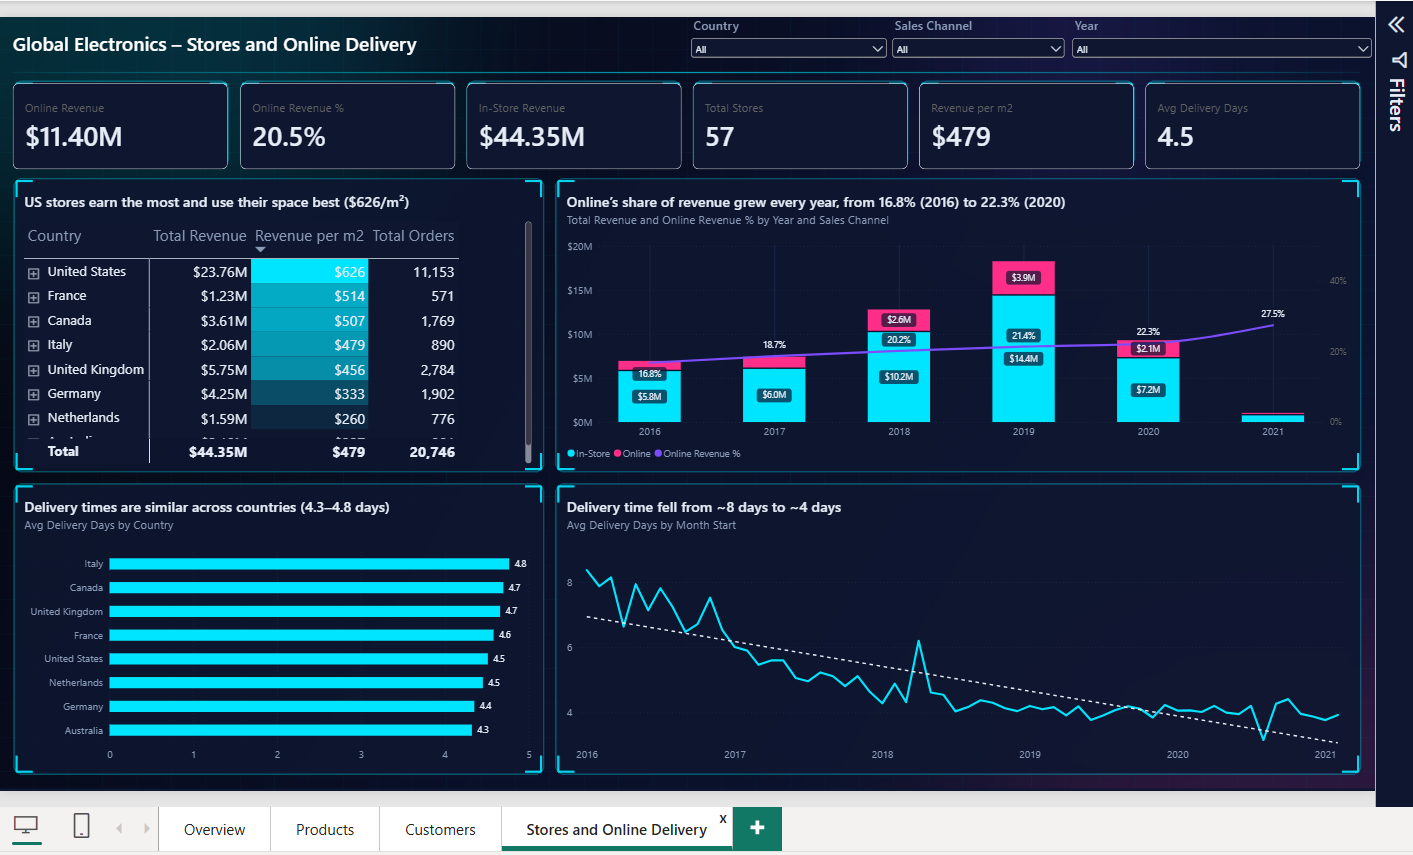

What the dashboard file says about the page in this screenshot:
{"tool":"powerbi","page":{"name":"Stores and Online Delivery","canvas":[1920,1080],"ordinal":3},"visuals":[{"type":"textbox","box":[20,20,960.2,64.6],"z":0},{"type":"slicer","fields":{"Values":["Date.Year"]},"box":[1492.8,0,427.7,64.6],"z":1000},{"type":"slicer","fields":{"Values":["Stores.Country"]},"box":[960.2,0,282.4,64.6],"z":2000},{"type":"slicer","fields":{"Values":["Sales.Sales Channel"]},"box":[1242.6,0,250.1,64.6],"z":3000},{"type":"cardVisual","fields":{"Data":["_Measures_.Online Revenue"]},"box":[20,92,300,120],"z":4000},{"type":"cardVisual","fields":{"Data":["_Measures_.In-Store Revenue"]},"box":[652,92,300,120],"z":5000},{"type":"cardVisual","fields":{"Data":["_Measures_.Online Revenue %"]},"box":[336,92,300,120],"z":6000},{"type":"cardVisual","fields":{"Data":["_Measures_.Total Stores"]},"box":[968,92,300,120],"z":7000},{"type":"cardVisual","fields":{"Data":["_Measures_.Revenue per m2"]},"box":[1284,92,300,120],"z":8000},{"type":"cardVisual","title":"Revenue YoY % (Select a Year)","fields":{"Data":["_Measures_.Avg Delivery Days"]},"box":[1600,92,300,120],"z":9000},{"type":"pivotTable","title":"US stores earn the most and use their space best ($626/m²)","fields":{"Rows":["Stores.Country","Stores.State"],"Values":["_Measures_.Total Revenue","_Measures_.Revenue per m2","_Measures_.Total Orders"]},"box":[20,228,740,410],"z":9001},{"type":"lineStackedColumnComboChart","title":"Online’s share of revenue grew every year, from 16.8% (2016) to 22.3% (2020)","fields":{"Category":["Date.Year"],"Series":["Sales.Sales Channel"],"Y":["_Measures_.Total Revenue"],"Y2":["_Measures_.Online Revenue %"]},"box":[776,228,1124,410],"z":9002},{"type":"clusteredBarChart","title":"Delivery times are similar across countries (4.3–4.8 days)","fields":{"Category":["Customers.Country"],"Y":["_Measures_.Avg Delivery Days"]},"box":[20,654,740,406],"z":9003},{"type":"lineChart","title":"Delivery time fell from ~8 days to ~4 days","fields":{"Category":["Date.Month Start"],"Y":["_Measures_.Avg Delivery Days"]},"box":[776,654,1124,406],"z":9004}]}

Visuals, with their boxes on the page's 1920x1080 design canvas (x1, y1, x2, y2). These are canvas units, not pixel positions in the 1413x855 screenshot, which may show the page scaled, cropped or inside an application window:
textbox: 20/20/980/85
slicer - Date.Year: 1493/0/1920/65
slicer - Stores.Country: 960/0/1243/65
slicer - Sales.Sales Channel: 1243/0/1493/65
cardVisual - _Measures_.Online Revenue: 20/92/320/212
cardVisual - _Measures_.In-Store Revenue: 652/92/952/212
cardVisual - _Measures_.Online Revenue %: 336/92/636/212
cardVisual - _Measures_.Total Stores: 968/92/1268/212
cardVisual - _Measures_.Revenue per m2: 1284/92/1584/212
"Revenue YoY % (Select a Year)" cardVisual: 1600/92/1900/212
"US stores earn the most and use their space best ($626/m²)" pivotTable: 20/228/760/638
"Online’s share of revenue grew every year, from 16.8% (2016) to 22.3% (2020)" lineStackedColumnComboChart: 776/228/1900/638
"Delivery times are similar across countries (4.3–4.8 days)" clusteredBarChart: 20/654/760/1060
"Delivery time fell from ~8 days to ~4 days" lineChart: 776/654/1900/1060
